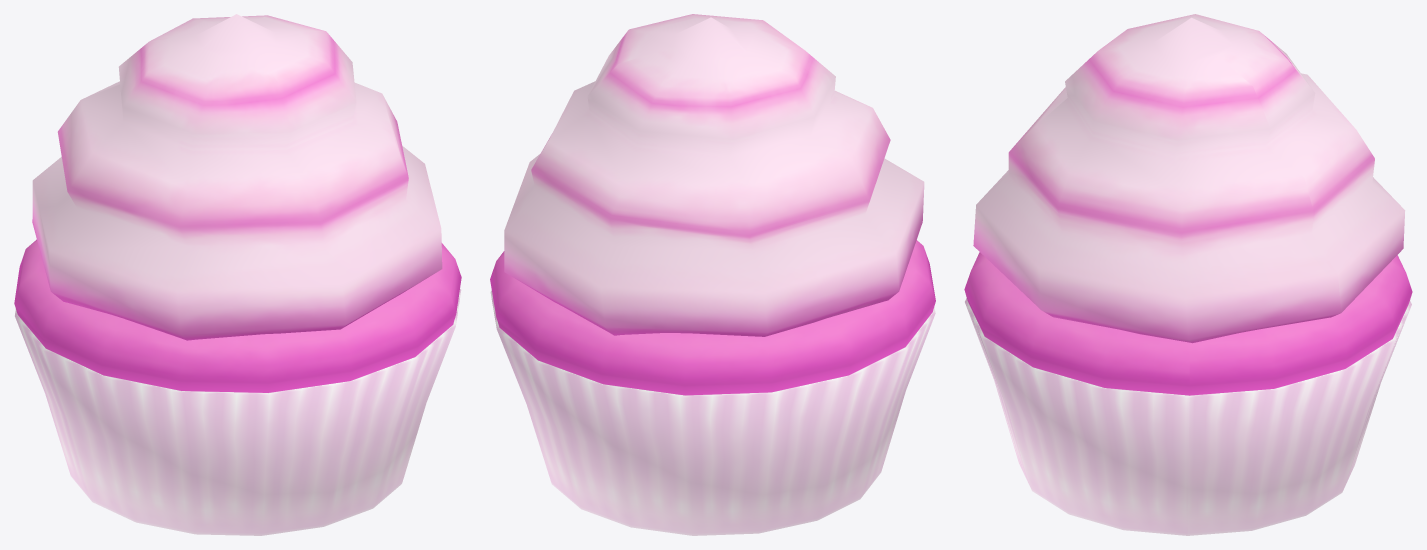
File: pink_cupcake.glb
The picture shows the model from 3 angles, left to right: view 1: azimuth 30°, elevation 25°; view 2: azimuth 150°, elevation 25°; view 3: azimuth 270°, elevation 25°; orthographic projection.
Visible parts, largest first — view 1: pink_cupcake; view 2: pink_cupcake; view 3: pink_cupcake.
Part boxes in pixels (x1,y1,x2,y2): pink_cupcake: (14, 14, 461, 535); pink_cupcake: (490, 14, 935, 535); pink_cupcake: (964, 14, 1412, 535).
Bounding box in the file's own units: 0.5254 × 0.5802 × 0.5254.
1 material, 1 textured.
